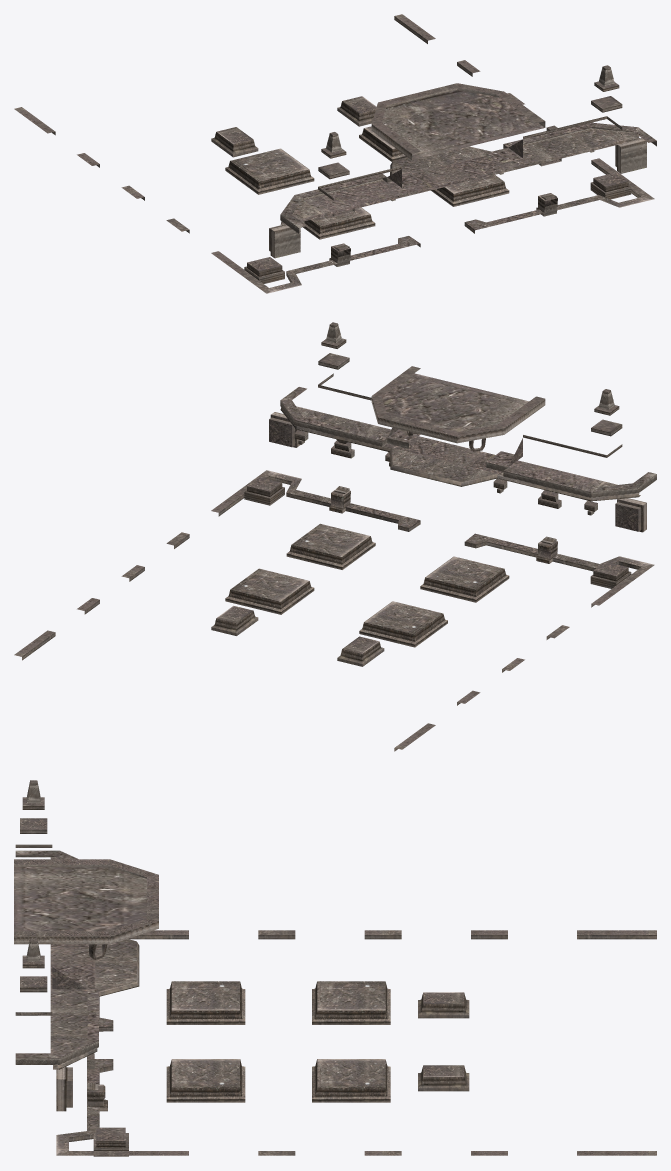
The model's file is steam_border.fbx.
3 views of the same model, one above another, from view 1: azimuth 30°, elevation 25°; view 2: azimuth 150°, elevation 25°; view 3: azimuth 270°, elevation 25° (orthographic). The views are drawn at different scales.
Parts seen in each view (by area): view 1: steam_border; view 2: steam_border; view 3: steam_border.
Boxes of the visible parts, x1,y1,x2,y2 form: steam_border: (14, 14, 656, 293); steam_border: (14, 322, 656, 751); steam_border: (14, 780, 656, 1156).
Bounding box in the file's own units: 250 × 97.43 × 302.
Materials: 1 (1 with a texture image).
